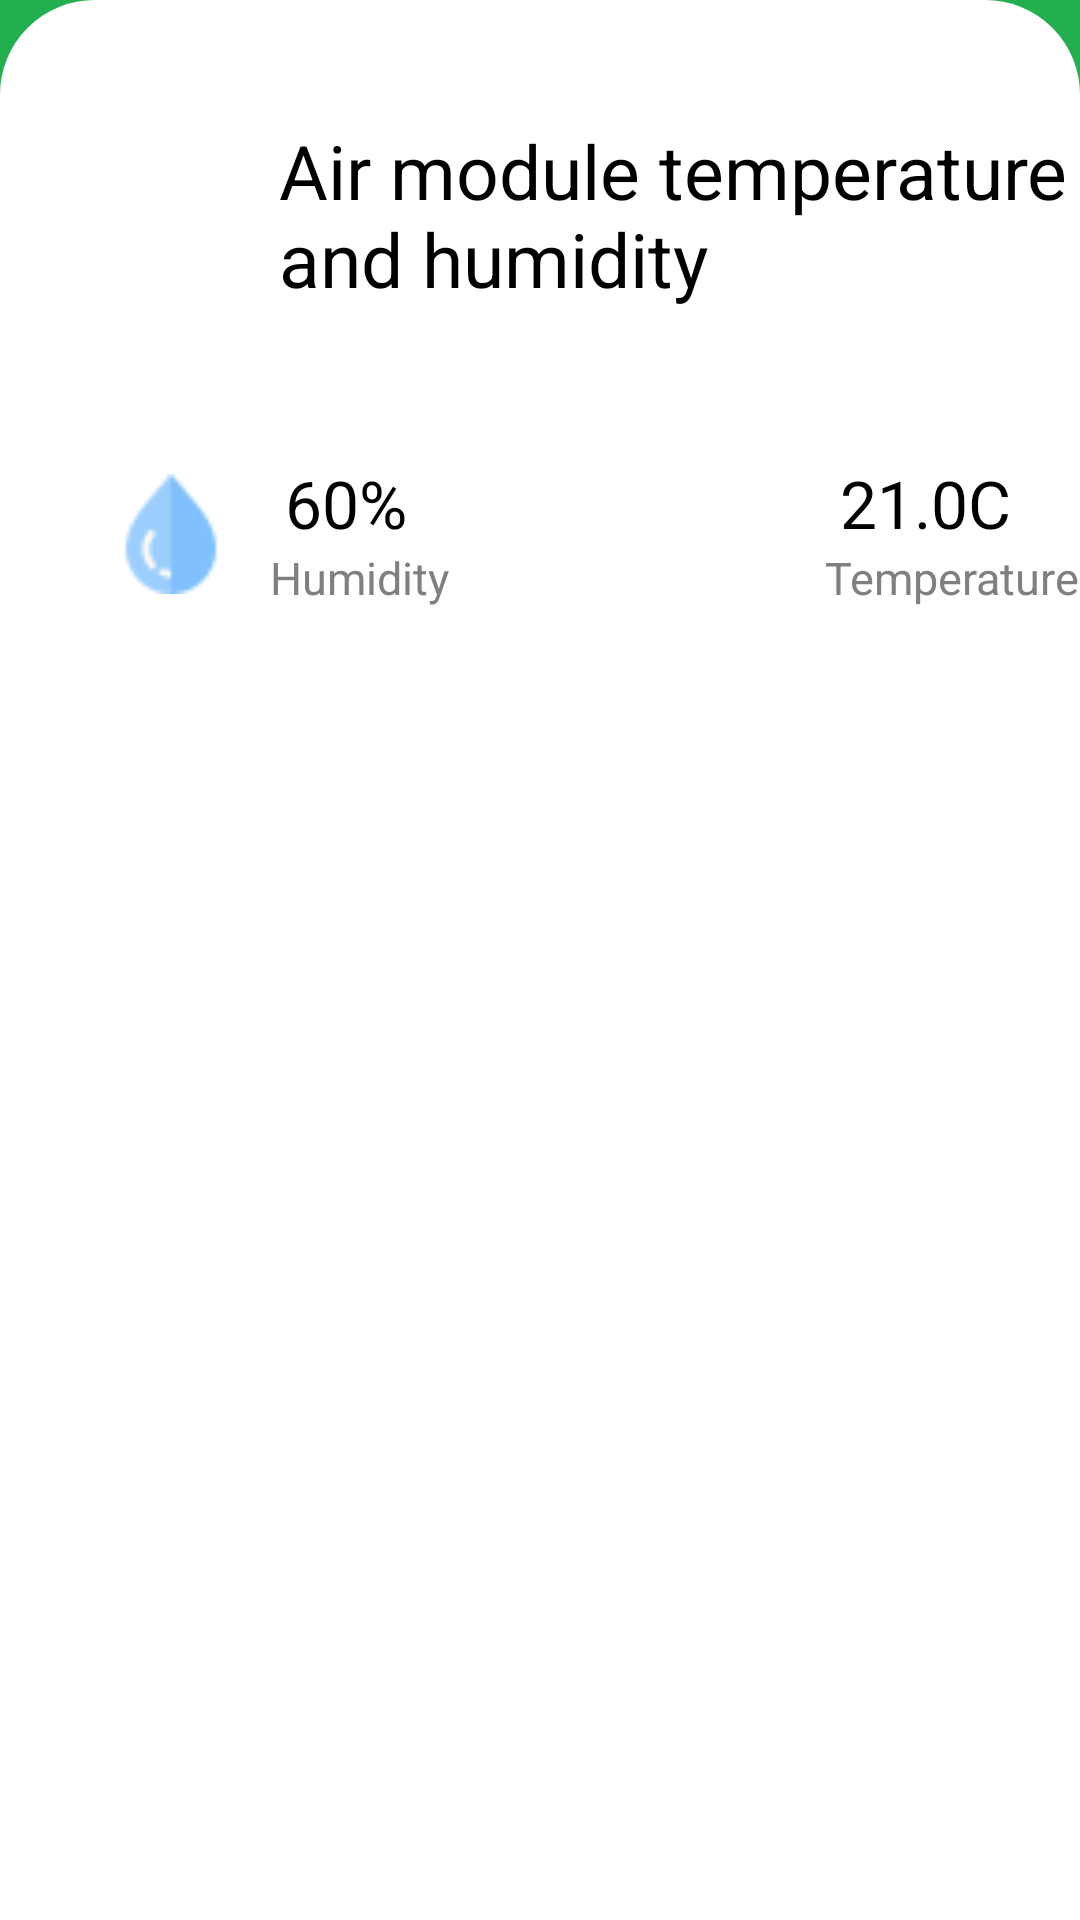

Icon click points for this 1080*1920 phone screenshot, format (x,y):
drop: (171,534)
